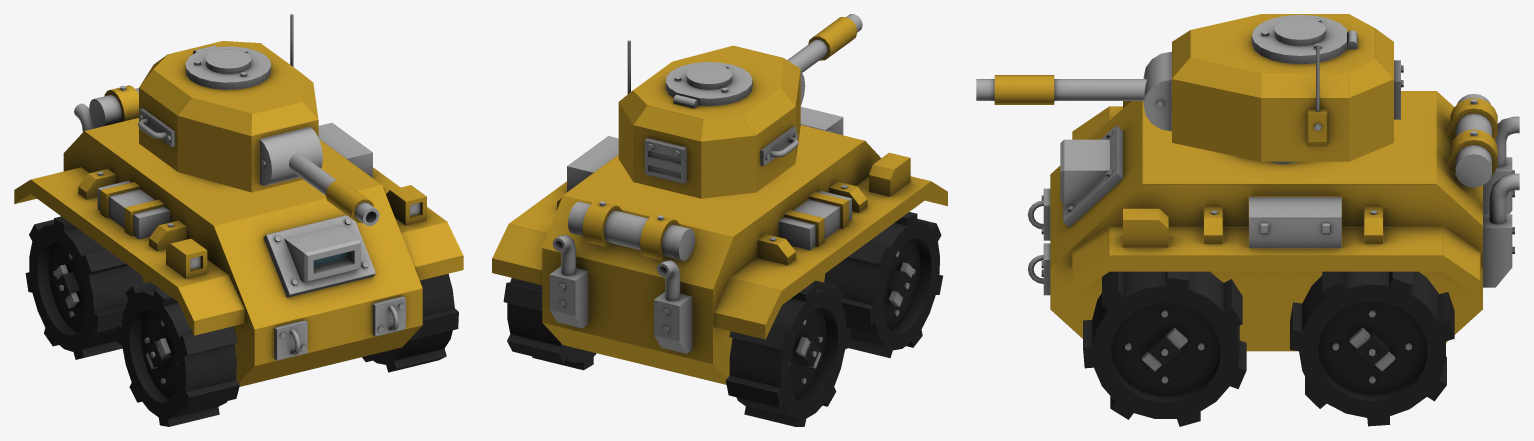
File: Toon_Tank.FBX
The picture shows the model from 3 angles, left to right: view 1: azimuth 30°, elevation 25°; view 2: azimuth 150°, elevation 25°; view 3: azimuth 270°, elevation 25°; orthographic projection. The views are drawn at different scales.
Parts seen in each view (by area): view 1: Toon_Tank, Toon_Tank_Tower, Toon_Tank_Wheel_f_right, Toon_Tank_Wheel_b_right, Toon_Tank_Wheel_f_left, Toon_Tank_Canon; view 2: Toon_Tank, Toon_Tank_Tower, Toon_Tank_Wheel_b_right, Toon_Tank_Wheel_f_right, Toon_Tank_Wheel_b_left, Toon_Tank_Canon; view 3: Toon_Tank, Toon_Tank_Tower, Toon_Tank_Wheel_f_left, Toon_Tank_Wheel_b_left, Toon_Tank_Canon.
Boxes of the visible parts, box(x1,y1,x2,y2) form: Toon_Tank: box(14, 85, 463, 386); Toon_Tank_Tower: box(138, 14, 322, 192); Toon_Tank_Wheel_f_right: box(117, 281, 239, 426); Toon_Tank_Wheel_b_right: box(25, 216, 143, 359); Toon_Tank_Wheel_f_left: box(362, 273, 458, 372); Toon_Tank_Canon: box(289, 153, 379, 225); Toon_Tank: box(492, 106, 947, 384); Toon_Tank_Tower: box(618, 40, 805, 198); Toon_Tank_Wheel_b_right: box(725, 280, 850, 426); Toon_Tank_Wheel_f_right: box(824, 212, 942, 358); Toon_Tank_Wheel_b_left: box(503, 278, 596, 370); Toon_Tank_Canon: box(787, 14, 862, 72); Toon_Tank: box(1027, 91, 1519, 351); Toon_Tank_Tower: box(1143, 14, 1403, 164); Toon_Tank_Wheel_f_left: box(1083, 271, 1246, 426); Toon_Tank_Wheel_b_left: box(1290, 271, 1454, 426); Toon_Tank_Canon: box(976, 75, 1146, 104).
Size of the model in its own units: 193 by 208 by 294.
